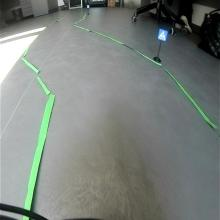crosswalk: (156, 28, 168, 42)
